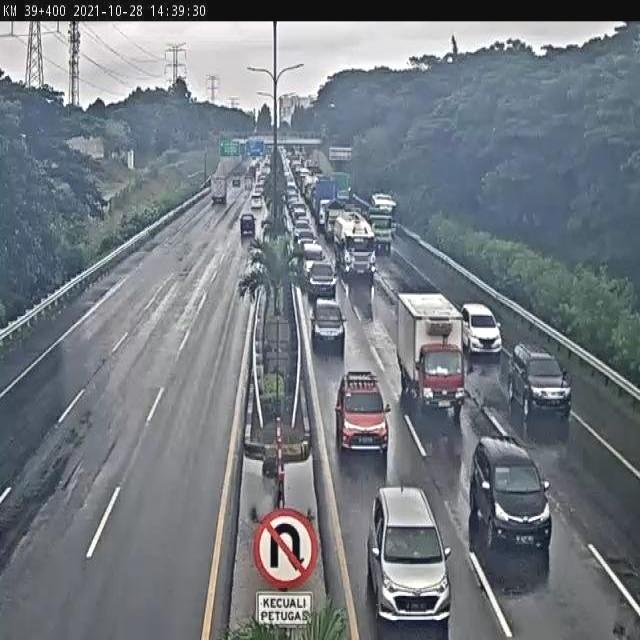Car: (365, 483, 451, 630), (468, 435, 552, 553), (333, 367, 396, 464), (505, 342, 572, 420), (462, 302, 504, 356), (311, 297, 345, 351), (306, 259, 337, 300), (240, 213, 255, 237)
Truck: (395, 290, 467, 412), (326, 210, 379, 276)
